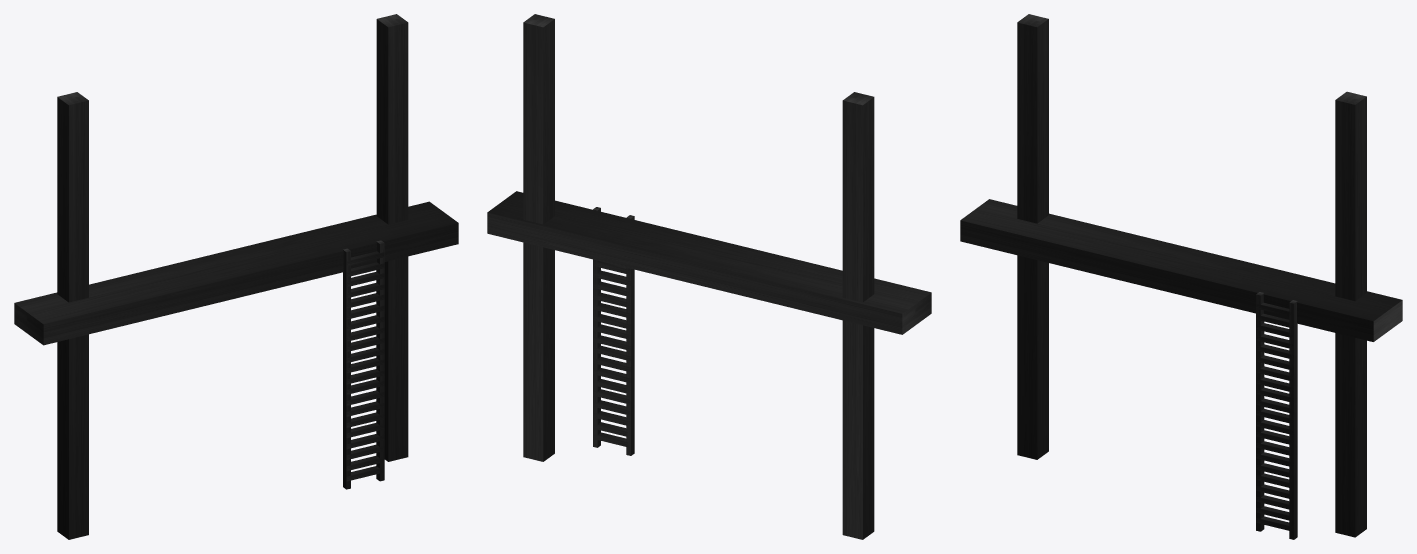
Rendered from billboardFrame.fbx.
3 renders of one model, left to right at view 1: azimuth 30°, elevation 25°; view 2: azimuth 150°, elevation 25°; view 3: azimuth 330°, elevation 25°, orthographic.
Visible parts, largest first — view 1: bilboardFrame; view 2: bilboardFrame; view 3: bilboardFrame.
Part boxes in pixels (left/top/right/bottom): bilboardFrame: left=14, top=14, right=458, bottom=539; bilboardFrame: left=487, top=14, right=931, bottom=539; bilboardFrame: left=960, top=14, right=1402, bottom=539.
Bounding box in the file's own units: 20.64 × 20.64 × 2.77.
